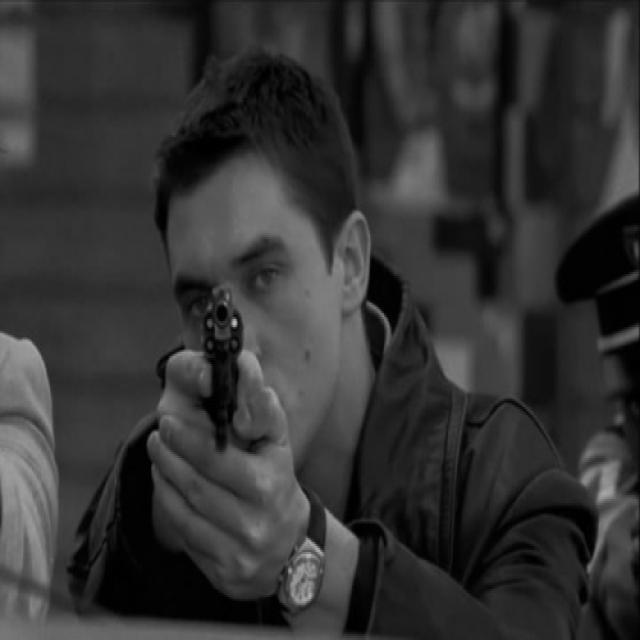weapons: (180, 270, 260, 497)
